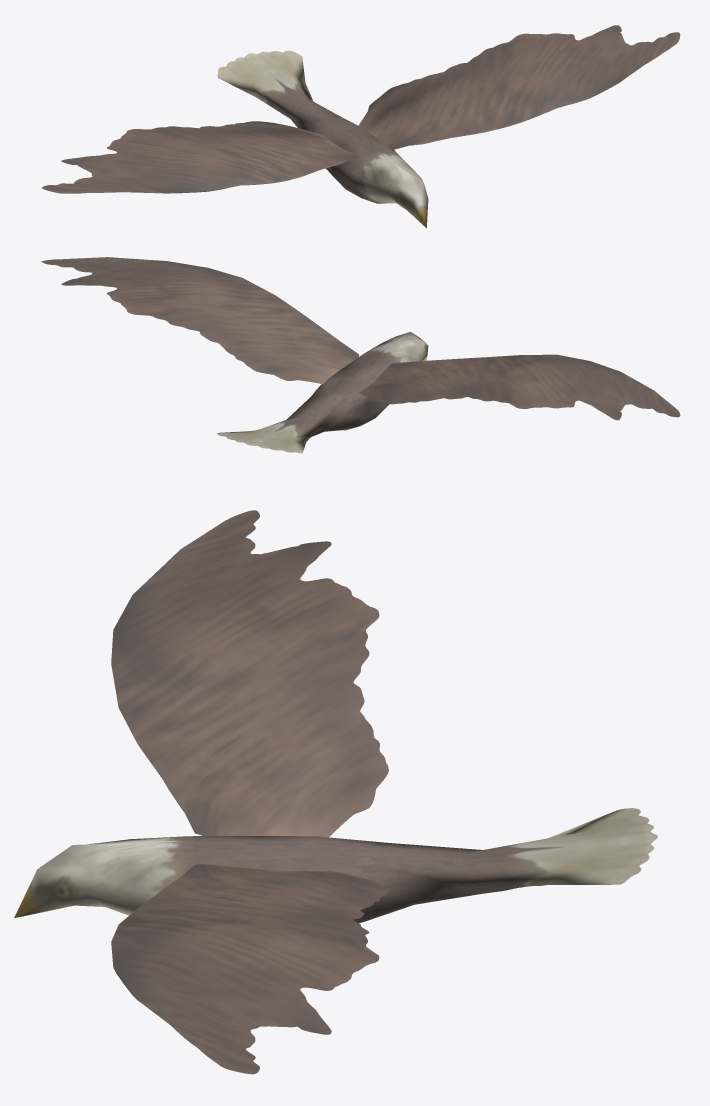
Rendered from VFX_Eagle_01.fbx.
3 renders of one model, top to bottom at view 1: azimuth 30°, elevation 25°; view 2: azimuth 150°, elevation 25°; view 3: azimuth 270°, elevation 25°, orthographic. The views are drawn at different scales.
Parts seen in each view (by area): view 1: VFX_eagle; view 2: VFX_eagle; view 3: VFX_eagle.
Part boxes in pixels (x1=…): VFX_eagle: x1=42, y1=25, x2=680, y2=228; VFX_eagle: x1=41, y1=257, x2=680, y2=453; VFX_eagle: x1=14, y1=510, x2=657, y2=1074.
Bounding box in the file's own units: 15.09 × 1.95 × 7.21.
